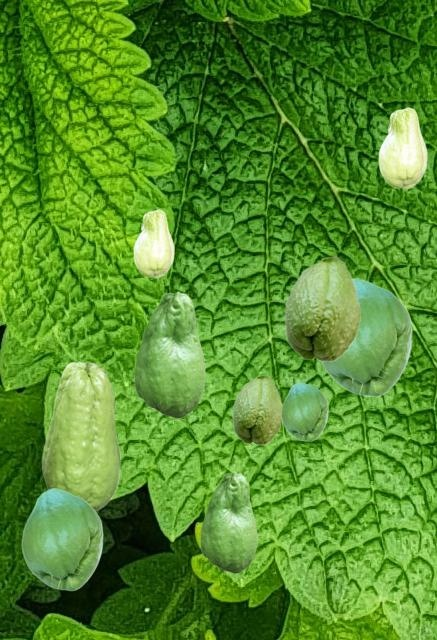sayote: (41, 361, 120, 511), (321, 278, 411, 396), (134, 291, 204, 417), (21, 488, 102, 590), (284, 255, 360, 361), (200, 472, 256, 572), (378, 107, 426, 188), (232, 374, 281, 444), (133, 209, 173, 277), (281, 382, 327, 440)
